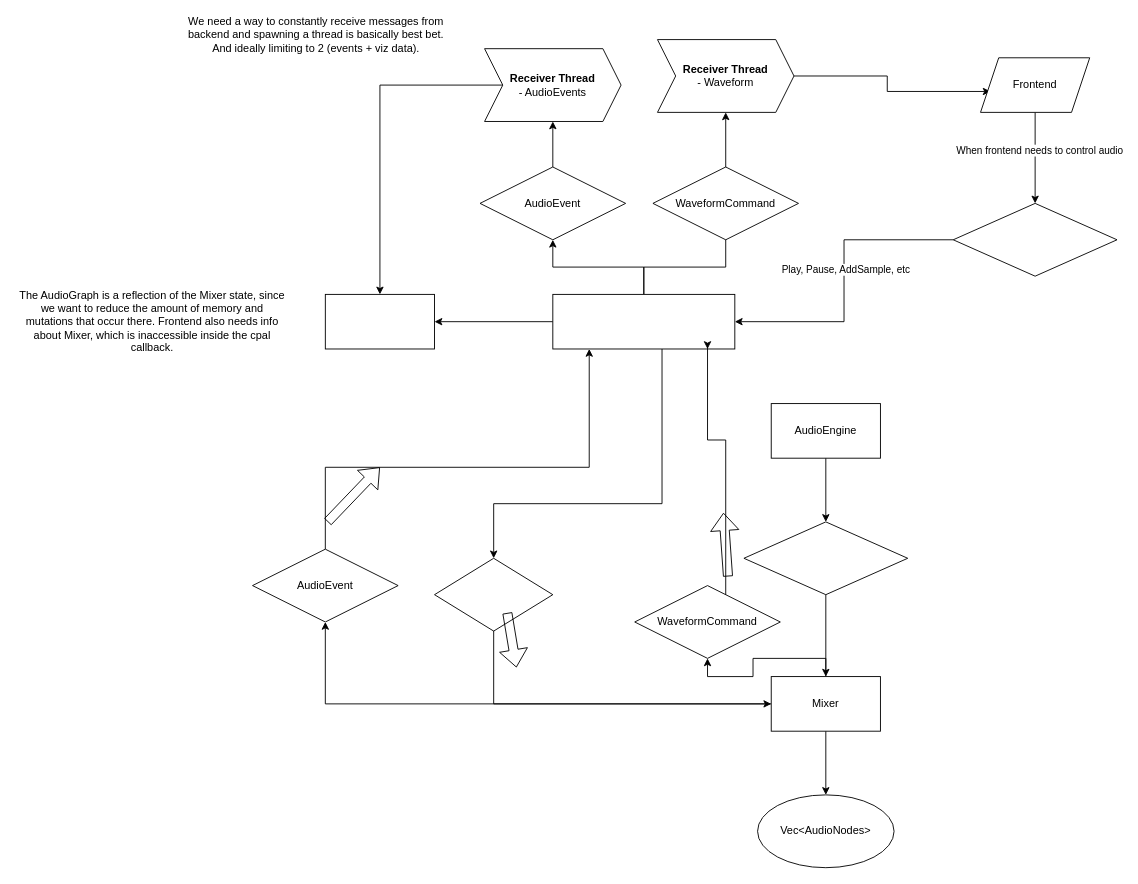
This 1138x884 diagram has some shape labels left out. Each missing label, with the box of its shape:
AudioCommand: (434, 557, 553, 631)
AudioEngineMessaging: (552, 293, 735, 349)
AudioGraph: (324, 293, 435, 349)
CPAL Callback Stream: (743, 521, 908, 595)
Tauri Handler: (952, 202, 1117, 276)
